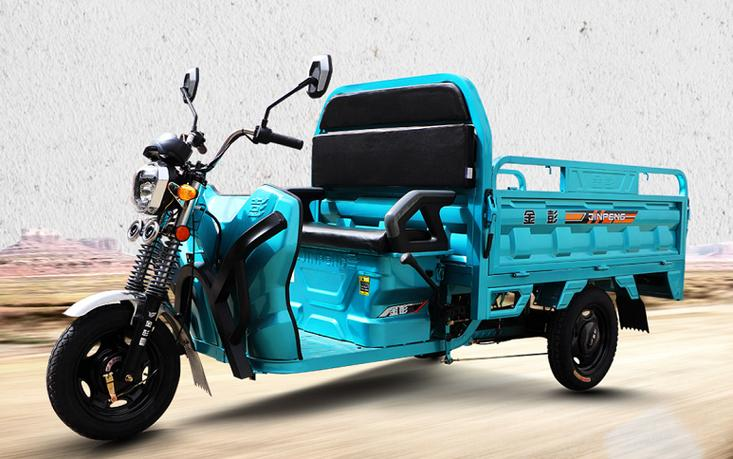empty: (55, 36, 699, 453)
